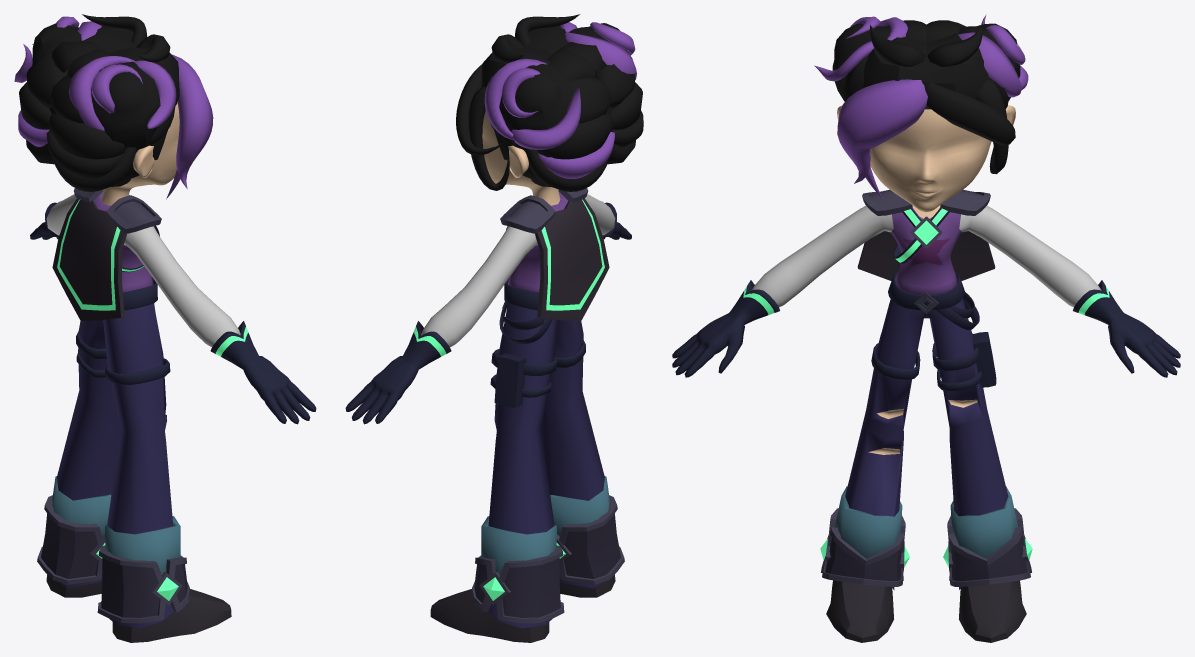
The model's file is кира.fbx.
The picture shows the model from 3 angles, left to right: view 1: azimuth 30°, elevation 25°; view 2: azimuth 150°, elevation 25°; view 3: azimuth 270°, elevation 25°; orthographic projection.
Parts seen in each view (by area): view 1: Куб.025, Плоскость.006, Плоскость.004, Плоскость, Куб.003, Куб.016, Куб.001, Куб, ТраекторияNurbs.009, ТраекторияNurbs.004, Плоскость.001, Куб.004 (+13 smaller); view 2: Куб.025, Плоскость.006, Плоскость.004, Плоскость, Куб.016, Куб.001, Куб, Куб.003, ТраекторияNurbs.009, ТраекторияNurbs.014, Плоскость.001, Куб.004 (+17 smaller); view 3: Куб.025, Плоскость, Плоскость.001, Куб.016, Куб, Плоскость.006, ТраекторияNurbs.004, Куб.001, Куб.004, Плоскость.004, ТраекторияNurbs.006, ТраекторияNurbs.016 (+8 smaller).
Part boxes in pixels (<box>): Куб.025: <box>57,303,173,628</box>; Плоскость.006: <box>37,495,190,623</box>; Плоскость.004: <box>52,198,126,320</box>; Плоскость: <box>46,192,240,347</box>; Куб.003: <box>32,23,160,149</box>; Куб.016: <box>30,202,316,424</box>; Куб.001: <box>52,476,180,574</box>; Куб: <box>46,574,231,642</box>; ТраекторияNurbs.009: <box>19,82,125,159</box>; ТраекторияNurbs.004: <box>172,54,213,189</box>; Плоскость.001: <box>101,102,179,205</box>; Куб.004: <box>49,26,179,186</box>; Куб.025: <box>488,303,604,628</box>; Плоскость.006: <box>471,495,624,623</box>; Плоскость.004: <box>535,198,609,320</box>; Плоскость: <box>421,192,615,347</box>; Куб.016: <box>345,202,631,424</box>; Куб.001: <box>481,476,609,574</box>; Куб: <box>430,574,615,642</box>; Куб.003: <box>499,23,629,149</box>; ТраекторияNurbs.009: <box>537,82,642,159</box>; ТраекторияNurbs.014: <box>568,64,635,123</box>; Плоскость.001: <box>482,111,560,205</box>; Куб.004: <box>481,26,612,186</box>; Куб.025: <box>833,299,1020,590</box>; Плоскость: <box>751,206,1101,307</box>; Плоскость.001: <box>837,105,1015,218</box>; Куб.016: <box>672,280,1180,377</box>; Куб: <box>826,580,1026,642</box>; Плоскость.006: <box>821,508,1031,586</box>; ТраекторияNurbs.004: <box>837,79,927,183</box>; Куб.001: <box>834,486,1018,558</box>; Куб.004: <box>863,33,988,98</box>; Плоскость.004: <box>857,231,995,280</box>; ТраекторияNurbs.006: <box>924,81,1015,144</box>; ТраекторияNurbs.016: <box>870,25,982,66</box>.
Size of the model in its own units: 195 by 684 by 545.
14 materials, 1 textured.
